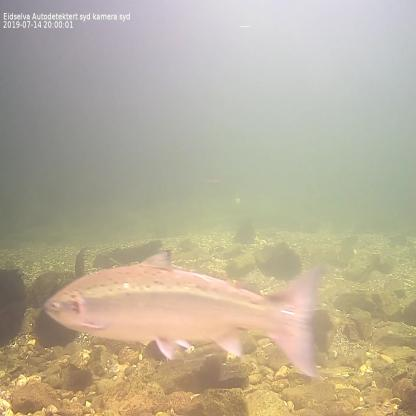salmon: (43, 246, 322, 380)
